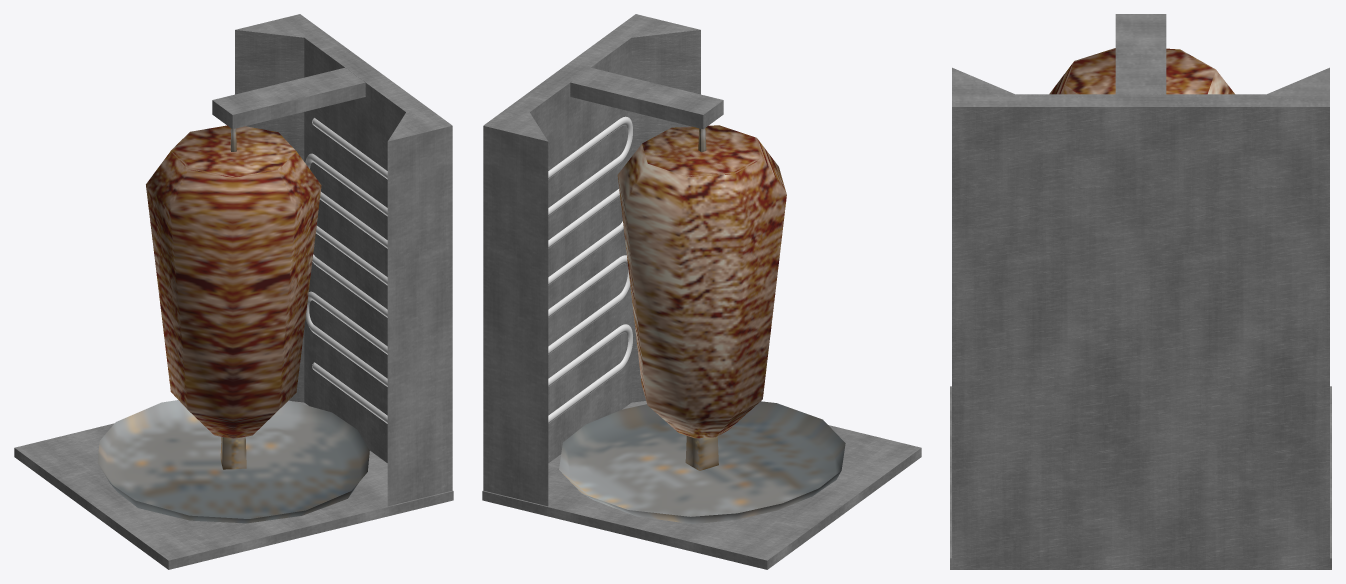
Rendered from GrillingMeat.fbx.
3 renders of one model, left to right at view 1: azimuth 30°, elevation 25°; view 2: azimuth 150°, elevation 25°; view 3: azimuth 270°, elevation 25°, orthographic. The views are drawn at different scales.
Parts seen in each view (by area): view 1: Куб.001, ShawrmaBody, Metal, Metal.001, Metal2; view 2: Куб.001, ShawrmaBody, Metal, Metal.001, Metal2; view 3: Куб.001, ShawrmaBody.
Boxes of the visible parts, <box> form: Куб.001: <box>14,14,453,569</box>; ShawrmaBody: <box>146,125,321,438</box>; Metal: <box>97,400,369,523</box>; Metal.001: <box>98,401,368,522</box>; Metal2: <box>220,128,246,469</box>; Куб.001: <box>482,14,921,569</box>; ShawrmaBody: <box>617,125,786,438</box>; Metal: <box>559,401,845,523</box>; Metal.001: <box>559,402,844,523</box>; Metal2: <box>685,128,718,470</box>; Куб.001: <box>950,14,1331,569</box>; ShawrmaBody: <box>1049,48,1234,94</box>.
Bounding box in the file's own units: 647 × 811 × 606.
